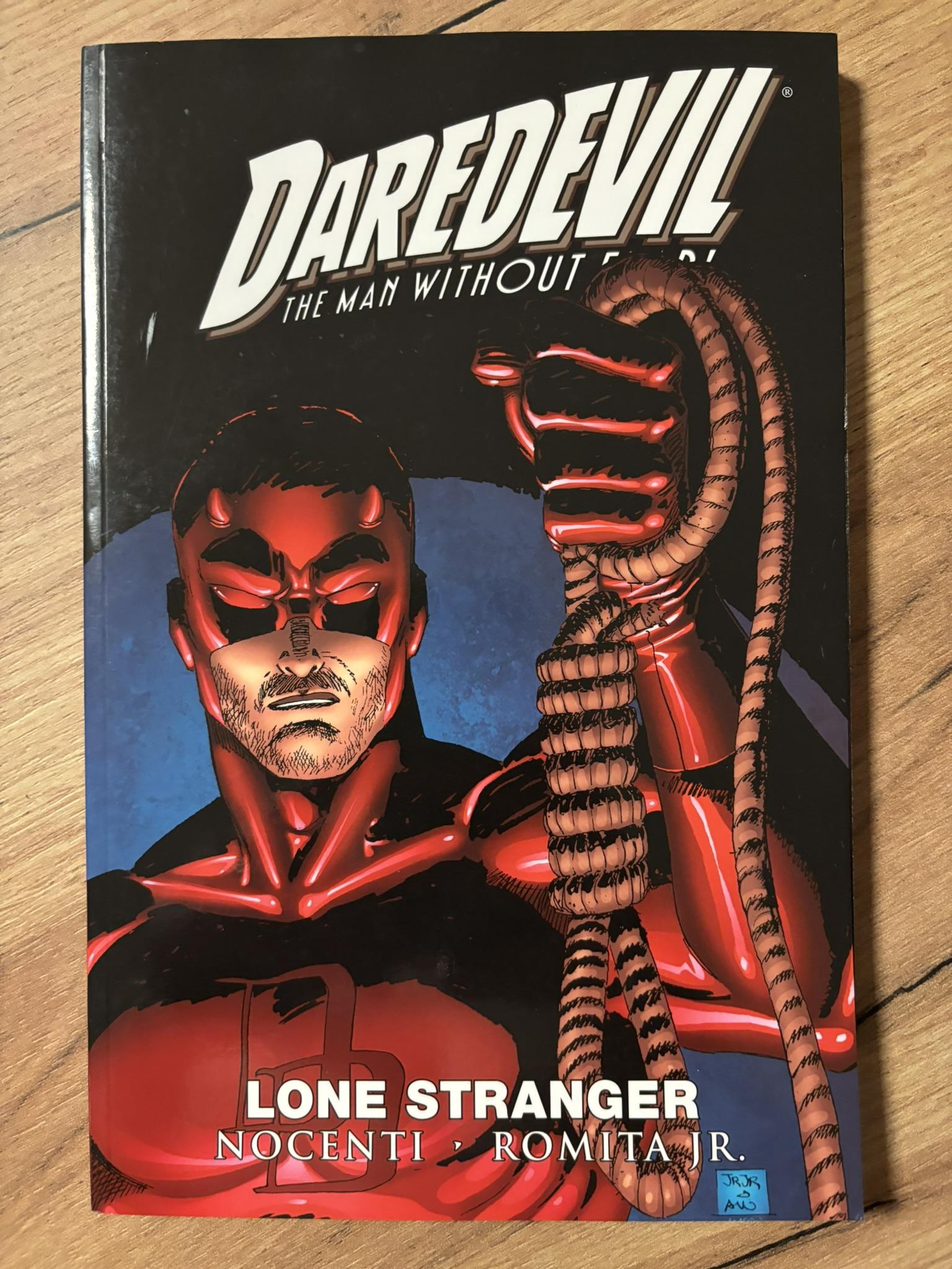comic: (74, 30, 860, 1230)
